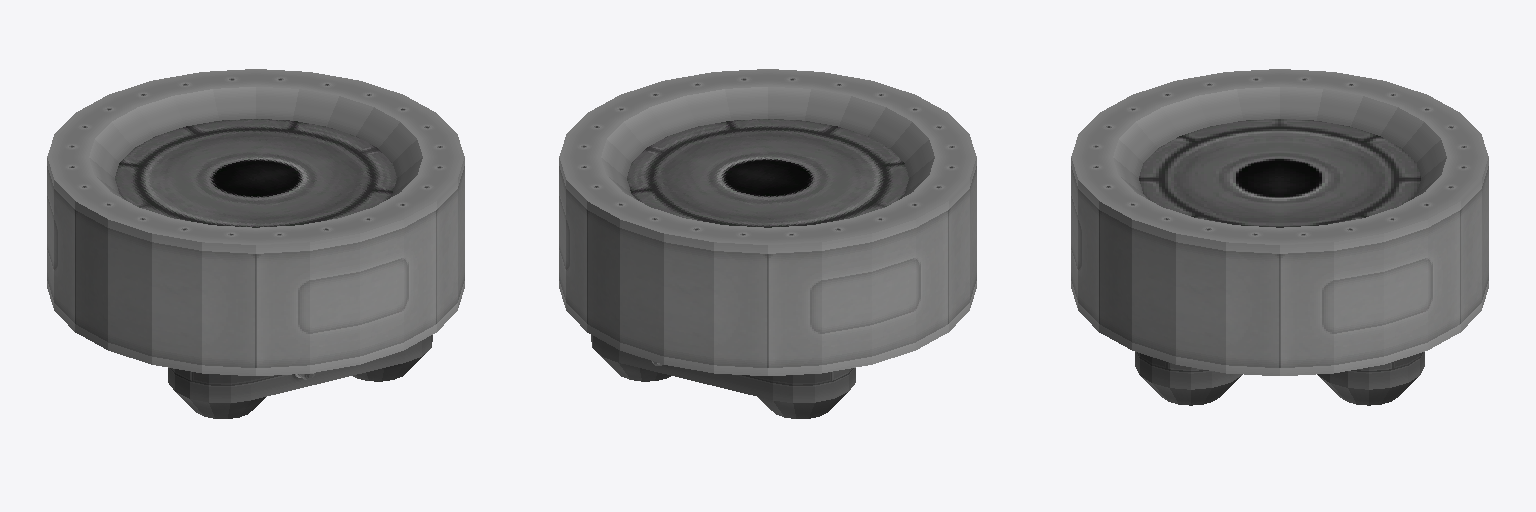
The picture shows the model from 3 angles: view 1: azimuth 30°, elevation 25°; view 2: azimuth 150°, elevation 25°; view 3: azimuth 270°, elevation 25°; orthographic projection.
Visible parts, largest first — view 1: Knight_Motor_C; view 2: Knight_Motor_C; view 3: Knight_Motor_C.
Boxes of the visible parts, x1,y1,x2,y2 form: Knight_Motor_C: [47, 69, 464, 418]; Knight_Motor_C: [559, 69, 976, 418]; Knight_Motor_C: [1071, 69, 1488, 405].
Bounding box in the file's own units: 0.9375 × 0.49 × 0.9375.
Materials: 1 (1 with a texture image).